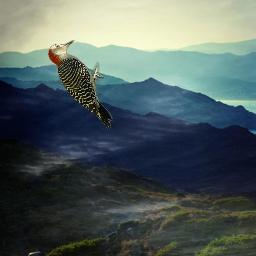Woodpecker: (46, 40, 115, 130)
